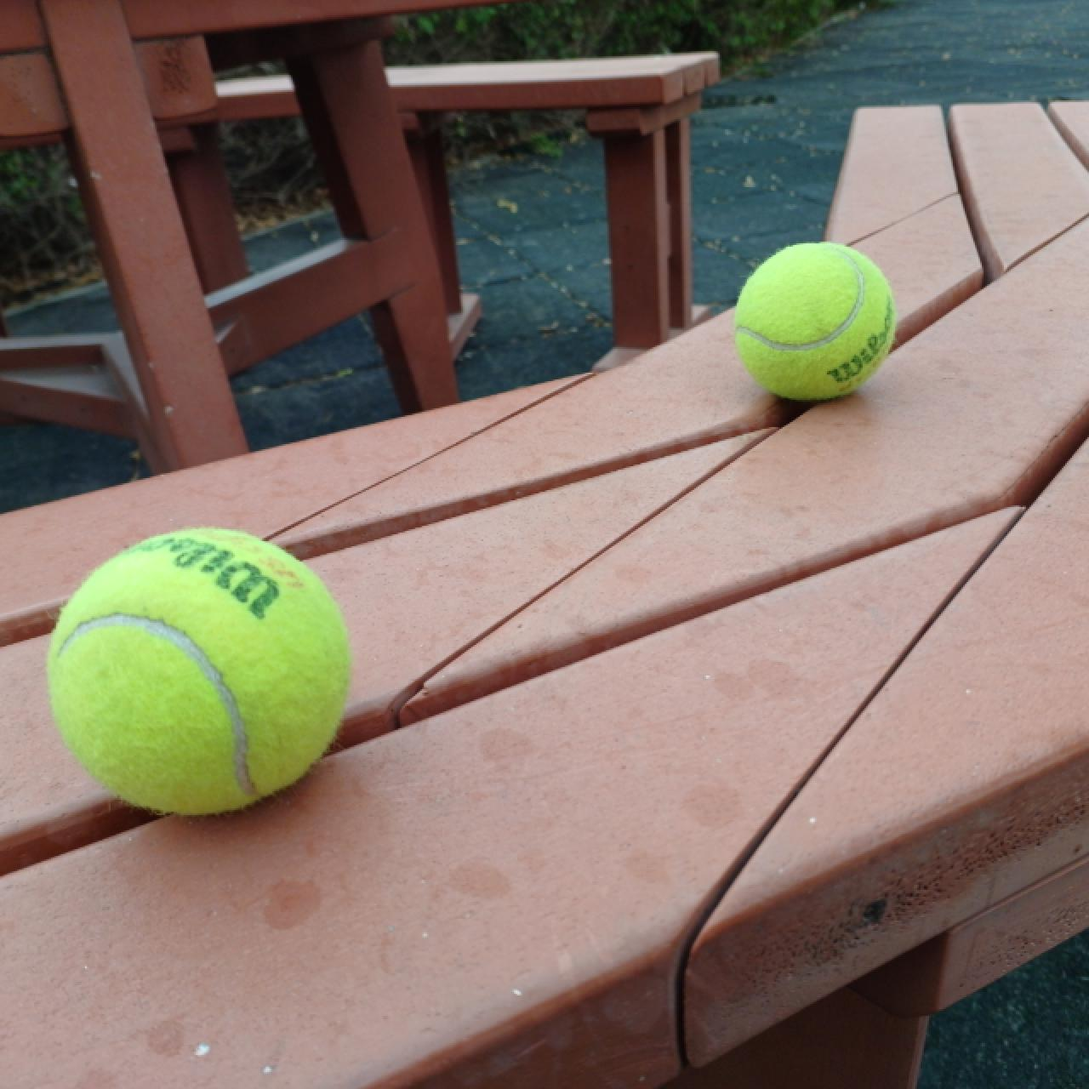tennis-ball: (46, 526, 351, 818), (733, 240, 897, 399)
